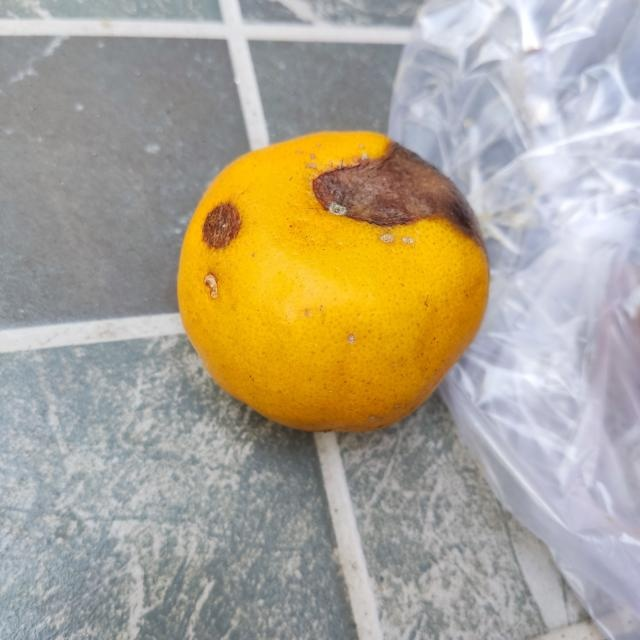agrume: (172, 128, 495, 435)
